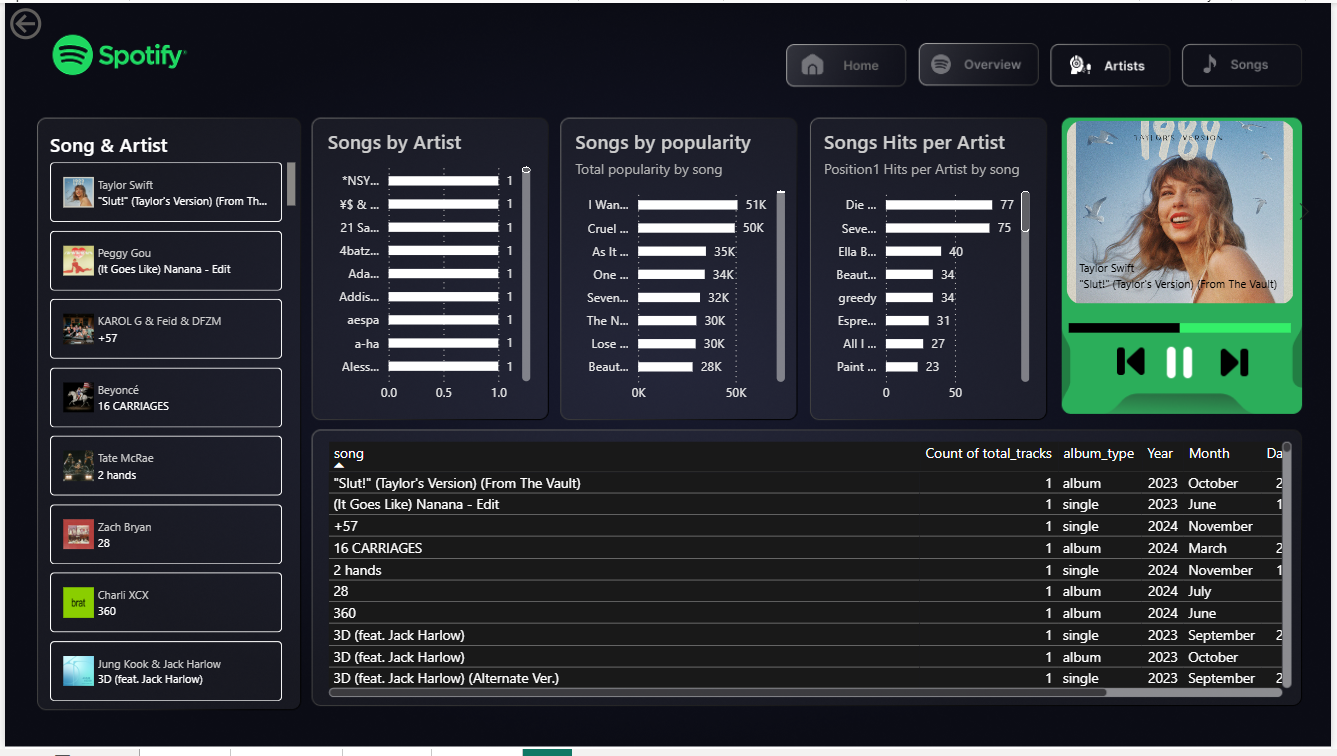

The page's visual inventory and layout, read from the dashboard file:
{"tool":"powerbi","page":{"name":"Artist","canvas":[1280,720],"ordinal":2},"visuals":[{"type":"advancedSlicerVisual","title":"Song & Artist","fields":{"Values":["Top-50-World.song"]},"box":[1003.8,107.4,260.6,183.4],"z":0},{"type":"shape","box":[1017.2,107,246.5,287.2],"z":1000},{"type":"hundredPercentStackedBarChart","fields":{"Y":["_measures.Avg Popularity","Avg(Top-50-World.popularity)"]},"box":[1021.9,275.1,224.4,71.2],"z":2000},{"type":"image","box":[1172,331.6,30,30],"z":3000},{"type":"image","box":[1071.3,331,30,30],"z":4000},{"type":"image","box":[1118.7,331.6,30,30],"z":5000},{"type":"clusteredBarChart","title":"Songs by Artist","fields":{"Category":["Top-50-World.artist"],"Y":["_measures.Distinct Artists"]},"box":[306.1,120.6,205.9,273.6],"z":6000},{"type":"clusteredBarChart","title":"Songs by popularity","fields":{"Category":["Top-50-World.song"],"Y":["Sum(Top-50-World.popularity)"]},"box":[545.9,120.6,212.7,273.6],"z":7000},{"type":"clusteredBarChart","title":"Songs Hits per Artist","fields":{"Category":["Top-50-World.song"],"Y":["_measures.Position1 Hits per Artist"]},"box":[785.6,120.6,208.6,273.6],"z":8000},{"type":"advancedSlicerVisual","title":"Song & Artist","fields":{"Values":["Top-50-World.song"]},"box":[42.9,124.3,237.1,550],"z":9000},{"type":"tableEx","fields":{"Values":["Top-50-World.song","Count(Top-50-World.total_tracks)","Top-50-World.album_type","Top-50-World.release_date.Variation.Date Hierarchy.Year","Top-50-World.release_date.Variation.Date Hierarchy.Month","Top-50-World.release_date.Variation.Date Hierarchy.Day","_measures.Avg Popularity","_measures.Min Popularity"]},"box":[306.1,418.5,940,256],"z":10000},{"type":"actionButton","box":[0,0,100,40],"z":11000}]}

Visuals, with their boxes in screenshot pixels (x1, y1, x2, y2), scaled from the page's 1280x720 canvas onto the 1337x756 screenshot:
"Song & Artist" advancedSlicerVisual: x1=1049 y1=113 x2=1321 y2=305
shape: x1=1062 y1=112 x2=1320 y2=414
hundredPercentStackedBarChart - _measures.Avg Popularity x Avg(Top-50-World.popularity): x1=1067 y1=289 x2=1302 y2=364
image: x1=1224 y1=348 x2=1256 y2=380
image: x1=1119 y1=348 x2=1150 y2=379
image: x1=1169 y1=348 x2=1200 y2=380
"Songs by Artist" clusteredBarChart: x1=320 y1=127 x2=535 y2=414
"Songs by popularity" clusteredBarChart: x1=570 y1=127 x2=792 y2=414
"Songs Hits per Artist" clusteredBarChart: x1=821 y1=127 x2=1038 y2=414
"Song & Artist" advancedSlicerVisual: x1=45 y1=131 x2=292 y2=708
tableEx - Top-50-World.song x Count(Top-50-World.total_tracks): x1=320 y1=439 x2=1302 y2=708
actionButton: x1=0 y1=0 x2=104 y2=42
